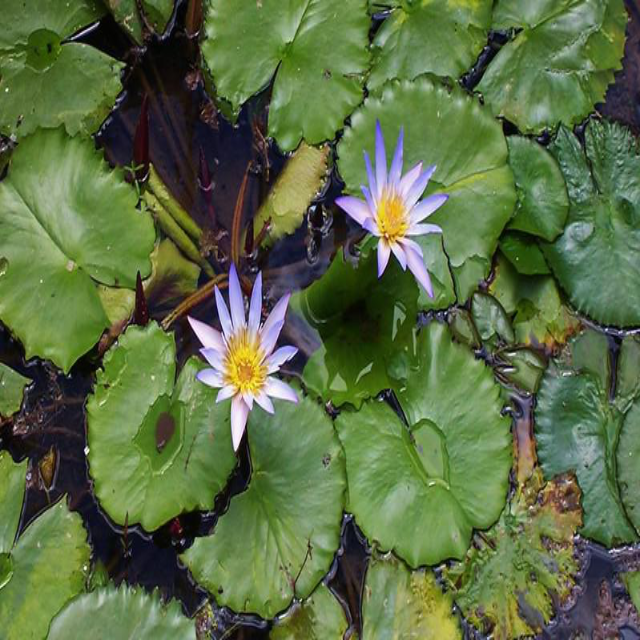water_lily: (186, 260, 301, 456), (331, 117, 449, 301)
